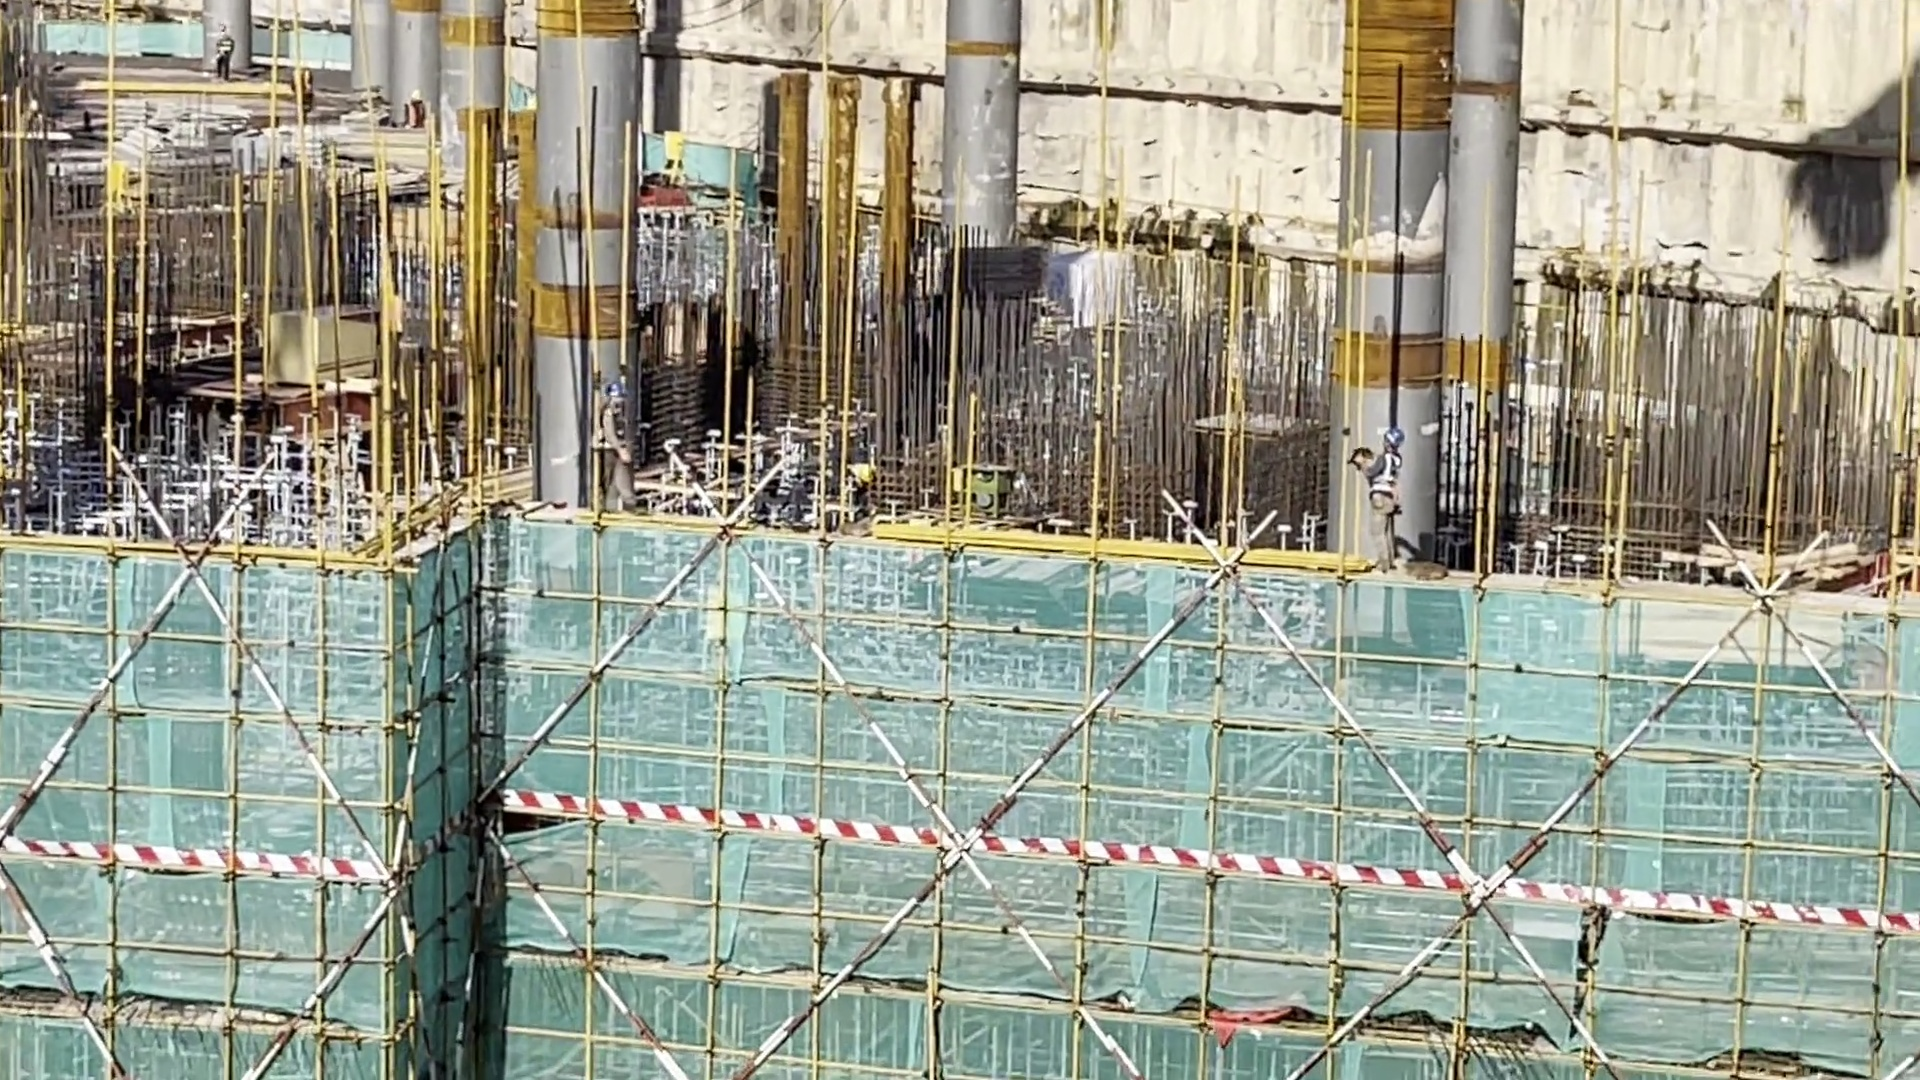helmet: (609, 371, 629, 401), (1383, 429, 1399, 451), (858, 469, 871, 487), (409, 91, 426, 104), (220, 22, 230, 33)
person: (1358, 428, 1408, 570), (603, 368, 639, 501), (206, 25, 256, 85), (841, 463, 883, 518), (394, 86, 421, 133), (293, 60, 311, 116)
vest: (601, 407, 646, 474), (1359, 456, 1403, 507), (402, 103, 422, 125), (299, 71, 315, 99), (219, 37, 232, 57)
